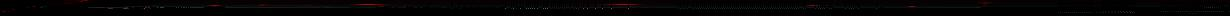Blue cone: (26, 7, 30, 8), (32, 6, 36, 7), (12, 9, 15, 10)
Yellow cone: (977, 2, 994, 6), (377, 4, 387, 7), (258, 4, 267, 6), (401, 6, 407, 8)
